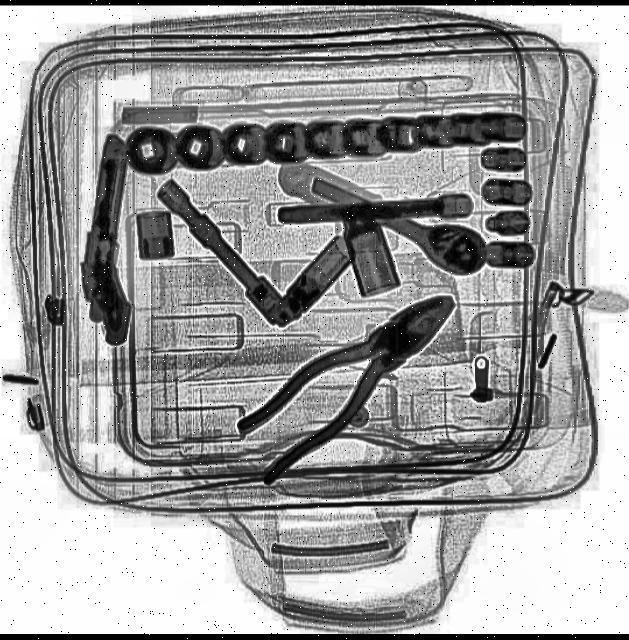Gun: (68, 132, 157, 352)
Pliers: (228, 266, 472, 486)
